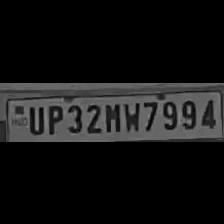2: (84, 100, 103, 132)
3: (64, 100, 82, 132)
4: (198, 94, 216, 128)
7: (140, 98, 158, 132)
9: (158, 96, 178, 130), (178, 96, 198, 128)
M: (102, 100, 120, 132)
P: (44, 100, 64, 134)
U: (24, 102, 43, 134)
W: (121, 98, 139, 132)
